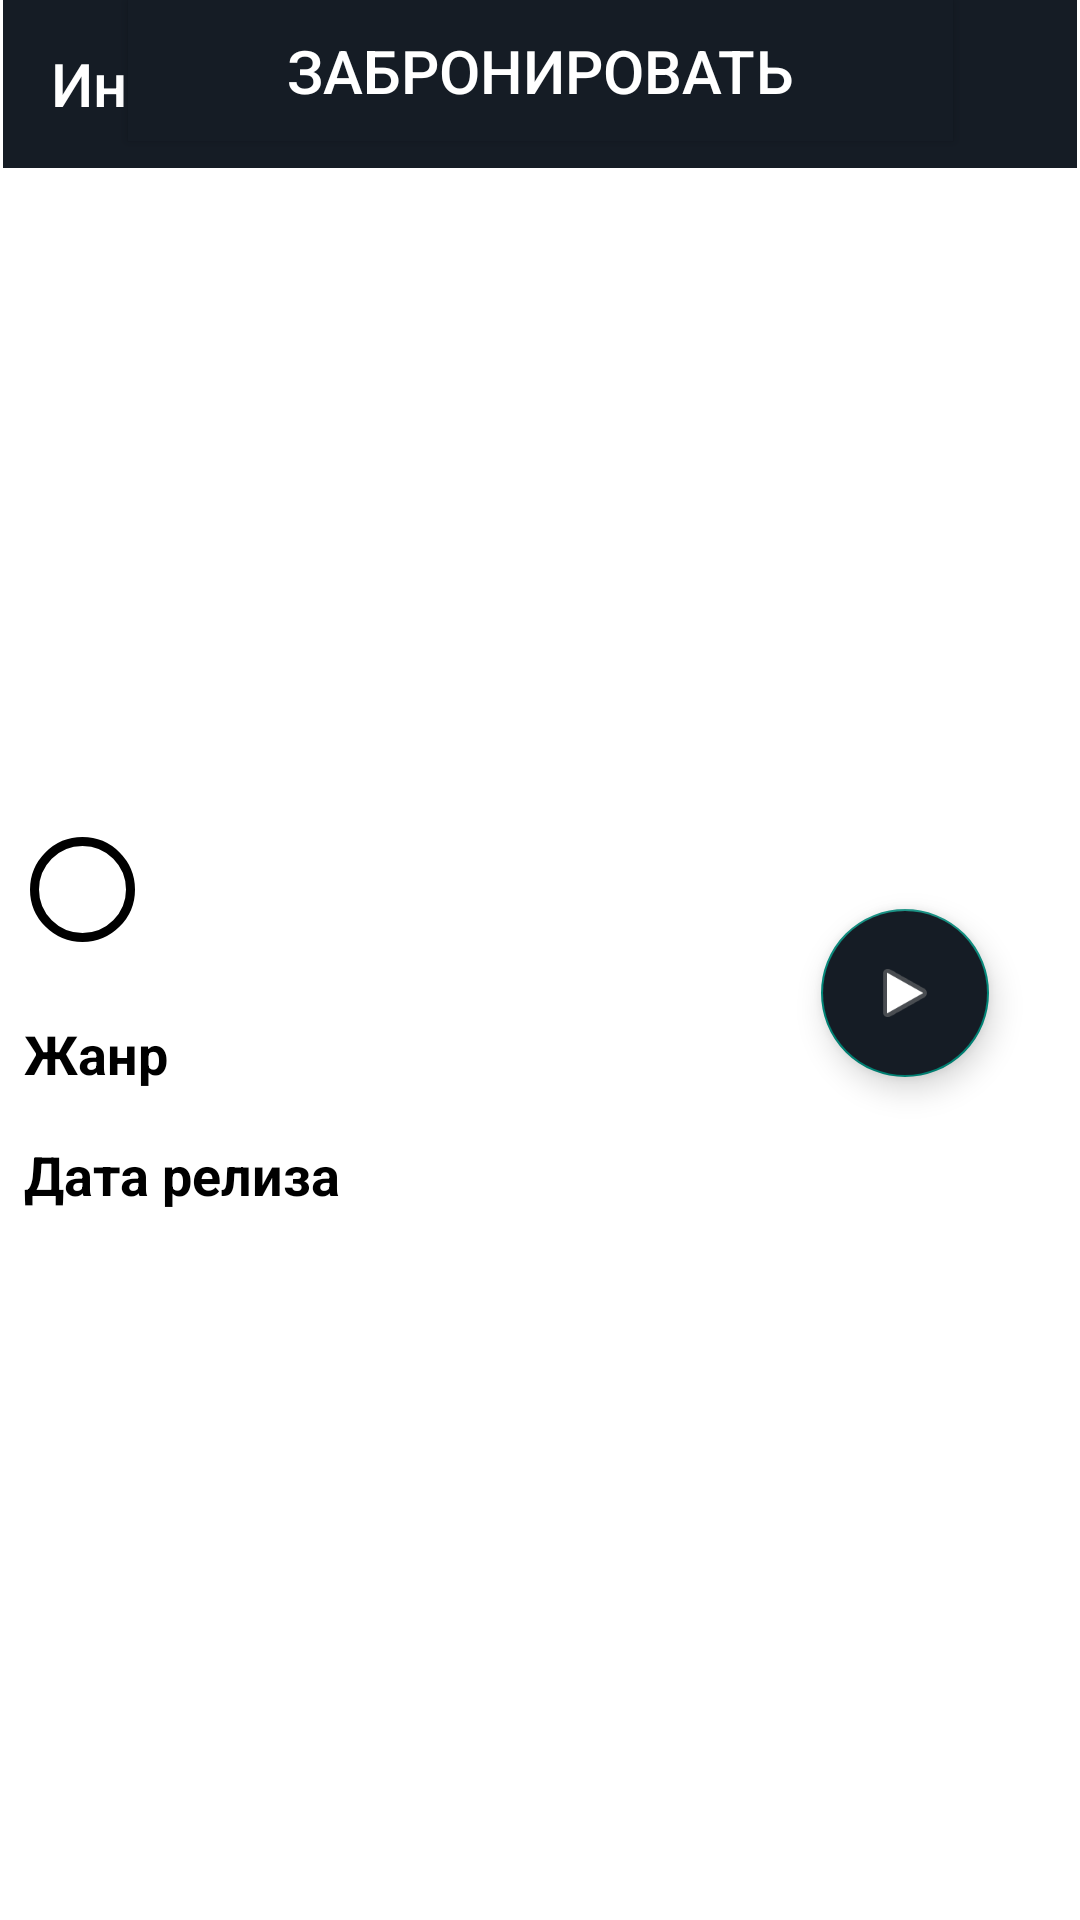

Icon bounding boxes for this 1080px×1920px phone screenshot, format {"x1": x1, "y1": y1, "x2": x2, "y2": y2}:
play: {"x1": 821, "y1": 909, "x2": 989, "y2": 1077}
